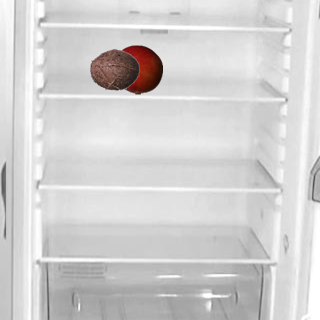Apple Braeburn: (112, 44, 162, 94)
Cocos: (89, 44, 139, 94)
